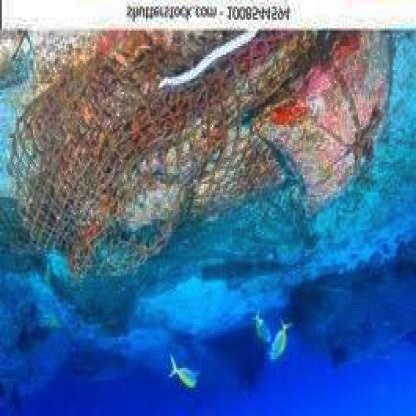net: (17, 33, 333, 260)
